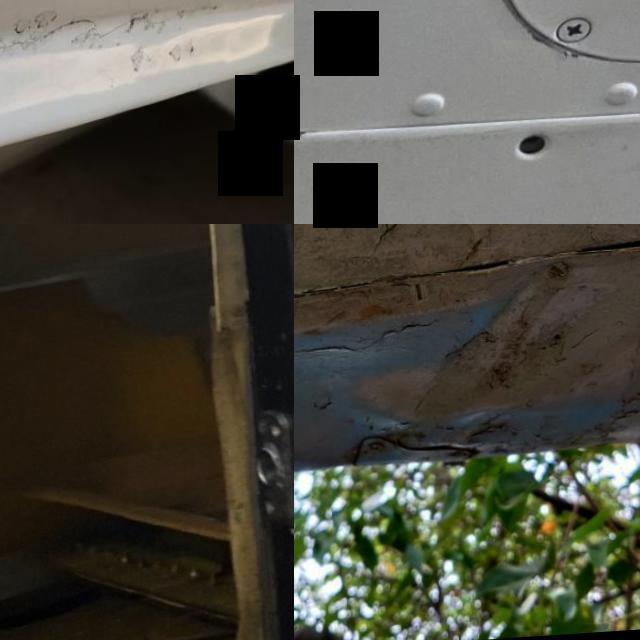Crack: (0, 16, 199, 60)
Dent: (342, 252, 640, 489)
Missing_Fastener: (514, 134, 565, 166), (294, 285, 313, 338)
